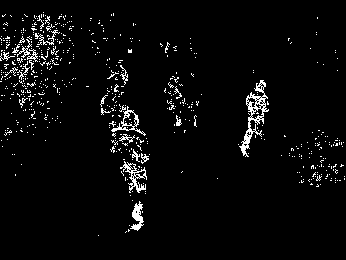person: (109, 110, 151, 232), (239, 80, 268, 159)
